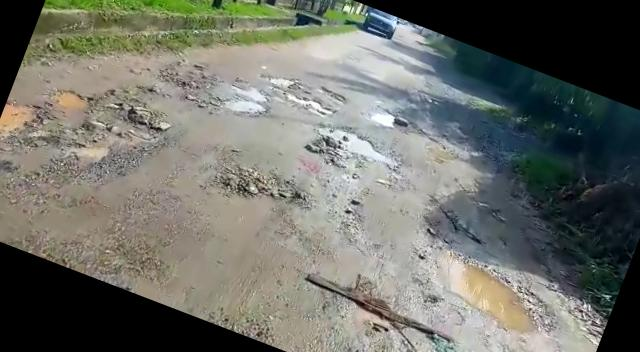pothole: (411, 238, 556, 342), (296, 114, 414, 190), (268, 81, 344, 121), (216, 76, 274, 124), (0, 94, 45, 151), (49, 81, 94, 118), (364, 102, 404, 132)
